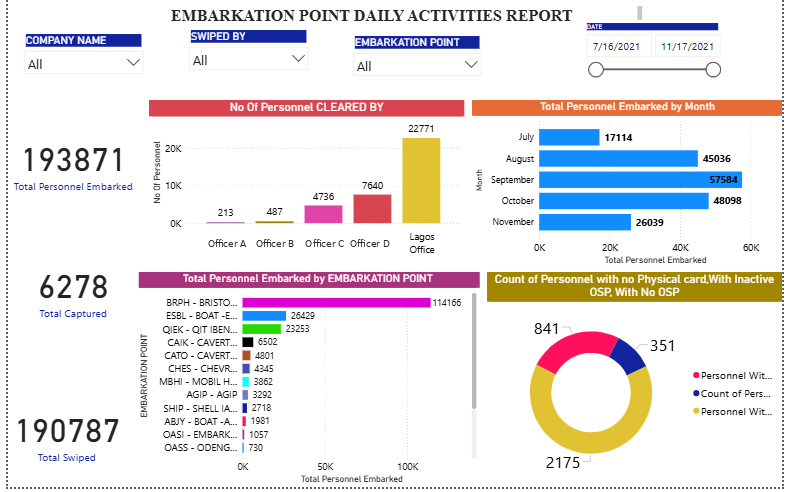

This screenshot's page, from the dashboard's own definition file:
{"tool":"powerbi","page":{"name":"Page 1","canvas":[1280,813],"ordinal":0},"visuals":[{"type":"clusteredBarChart","fields":{"Y":["Sum(Master.Total Personnel Embarked)"],"Category":["Master.EMBARKATION POINT"]},"box":[211,457.6,568,355.4],"z":0},{"type":"card","fields":{"Values":["Sum(Master.Total Swiped)"]},"box":[0,636.1,194.7,176.9],"z":1000},{"type":"card","fields":{"Values":["Sum(Master.Total Captured)"]},"box":[0,396,215.8,180.1],"z":2000},{"type":"card","fields":{"Values":["Sum(Master.Total Personnel Embarked)"]},"box":[0,173.6,215.8,206.1],"z":3000},{"type":"textbox","box":[157.7,12.9,896.1,37],"z":4000},{"type":"slicer","fields":{"Values":["Master.SWIPED BY"]},"box":[288.9,53.6,217.4,120.1],"z":5000},{"type":"slicer","fields":{"Values":["Master.DATE"]},"box":[942.8,40.6,243.4,133.1],"z":6000},{"type":"slicer","fields":{"Values":["Master.COMPANY NAME"]},"box":[16.2,60,217.4,107.1],"z":7000},{"type":"pieChart","title":"Count of Personnel with no Physical card,With Inactive  OSP, With No OSP","fields":{"Y":["Sum(Master.Personnel With Inactive  OSP )","CountNonNull(Master.No Physical card)","Sum(Master.No OSP)"]},"box":[791.9,458.5,487.8,354.5],"z":8000},{"type":"clusteredColumnChart","title":"No Of Personnel CLEARED BY","fields":{"Category":["Master.CLEARED BY"],"Y":["Sum(Master.Total Personnel Embarked)"]},"box":[233.7,173.6,520.9,277.5],"z":9000},{"type":"clusteredBarChart","fields":{"Y":["Sum(Master.Total Personnel Embarked)"],"Category":["Master.DATE.Variation.Date Hierarchy.Month"]},"box":[765.9,173.6,514.4,277.5],"z":10000},{"type":"slicer","fields":{"Values":["Master.EMBARKATION POINT"]},"box":[559.9,63.3,232.1,110.3],"z":11000},{"type":"textbox","box":[100,100,300,300],"z":11001}]}

Visuals, with their boxes on the page's 1280x813 design canvas (x1, y1, x2, y2). These are canvas units, not pixel positions in the 798x492 screenshot, which may show the page scaled, cropped or inside an application window:
clusteredBarChart - Sum(Master.Total Personnel Embarked) x Master.EMBARKATION POINT: locate(211, 458, 779, 813)
card - Sum(Master.Total Swiped): locate(0, 636, 195, 813)
card - Sum(Master.Total Captured): locate(0, 396, 216, 576)
card - Sum(Master.Total Personnel Embarked): locate(0, 174, 216, 380)
textbox: locate(158, 13, 1054, 50)
slicer - Master.SWIPED BY: locate(289, 54, 506, 174)
slicer - Master.DATE: locate(943, 41, 1186, 174)
slicer - Master.COMPANY NAME: locate(16, 60, 234, 167)
"Count of Personnel with no Physical card,With Inactive  OSP, With No OSP" pieChart: locate(792, 458, 1280, 813)
"No Of Personnel CLEARED BY" clusteredColumnChart: locate(234, 174, 755, 451)
clusteredBarChart - Sum(Master.Total Personnel Embarked) x Master.DATE.Variation.Date Hierarchy.Month: locate(766, 174, 1280, 451)
slicer - Master.EMBARKATION POINT: locate(560, 63, 792, 174)
textbox: locate(100, 100, 400, 400)
